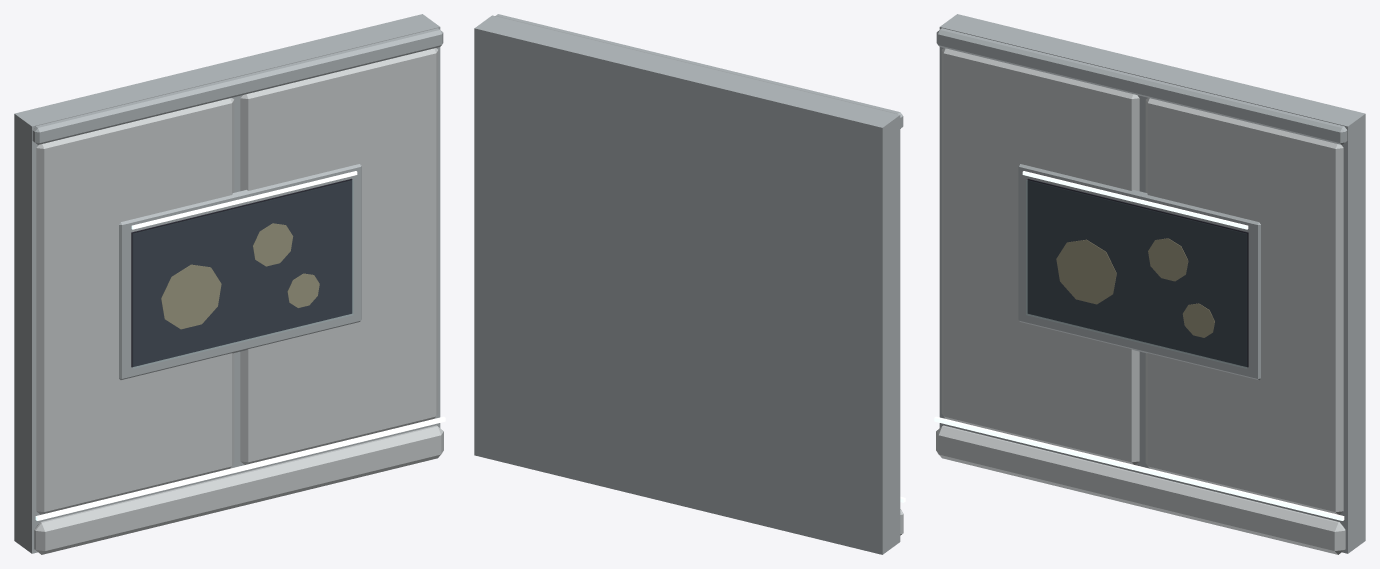
Rendered from wall_an_white3.glb.
The picture shows the model from 3 angles, left to right: view 1: azimuth 30°, elevation 25°; view 2: azimuth 150°, elevation 25°; view 3: azimuth 330°, elevation 25°; orthographic projection.
Parts seen in each view (by area): view 1: wall_an_white3; view 2: wall_an_white3; view 3: wall_an_white3.
Boxes of the visible parts, x1,y1,x2,y2 form: wall_an_white3: (14,14,445,554); wall_an_white3: (474,14,905,554); wall_an_white3: (934,14,1365,554).
Bounding box in the file's own units: 4 × 4 × 0.45.
